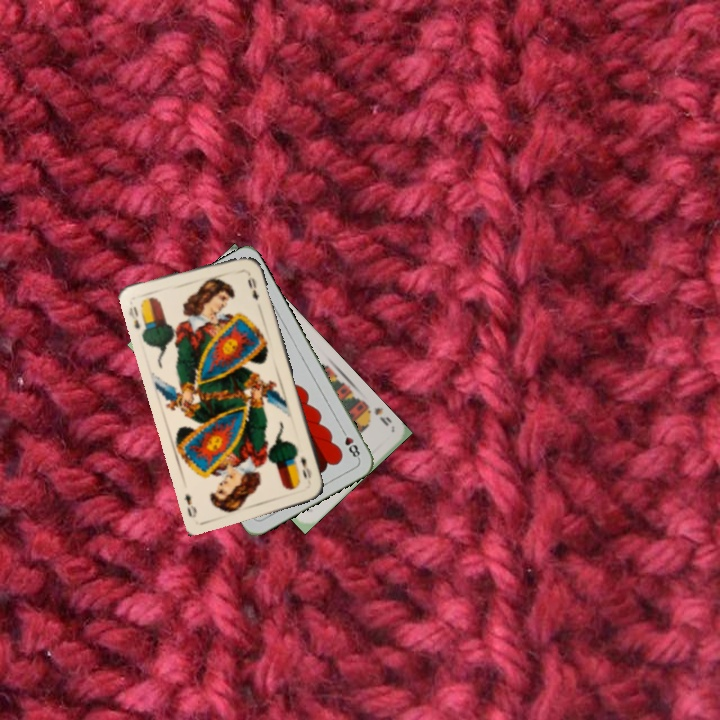EO: (296, 453, 314, 482), (125, 302, 143, 331)
H8: (337, 424, 363, 461)
S9: (360, 400, 395, 429)
